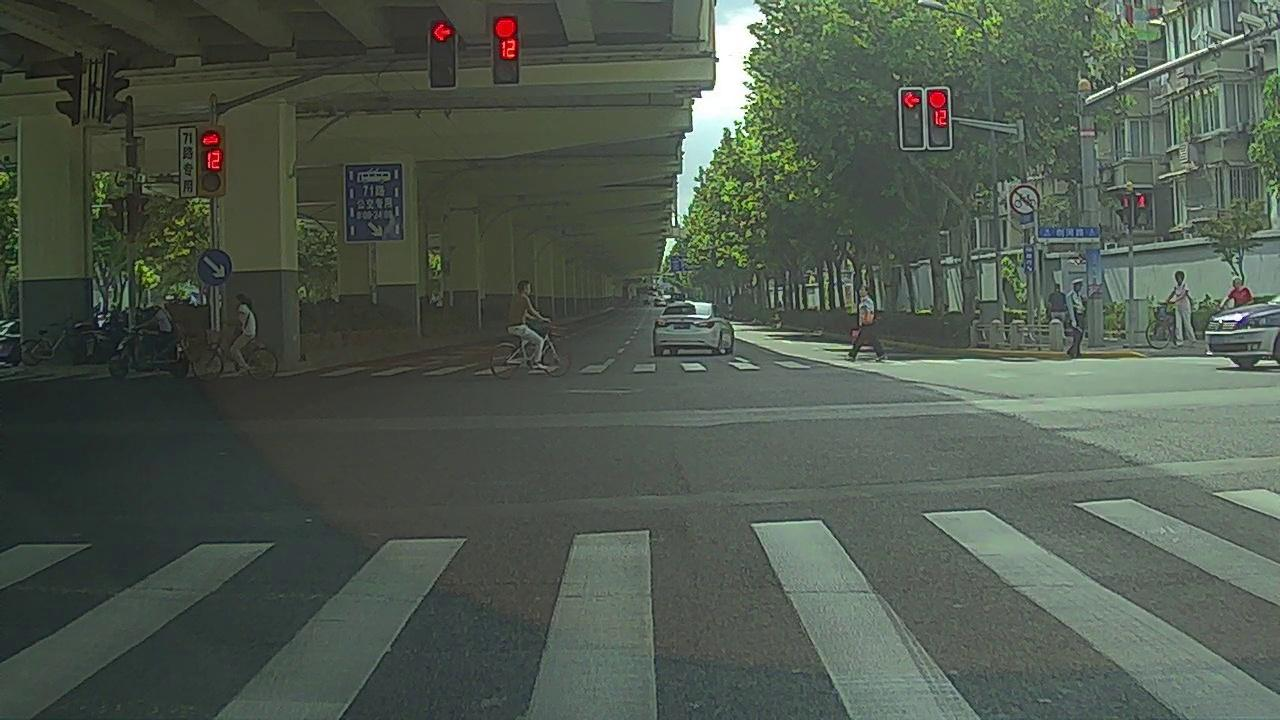traffic_light: (493, 13, 519, 82), (899, 90, 928, 151), (430, 20, 455, 85), (930, 85, 952, 148)
